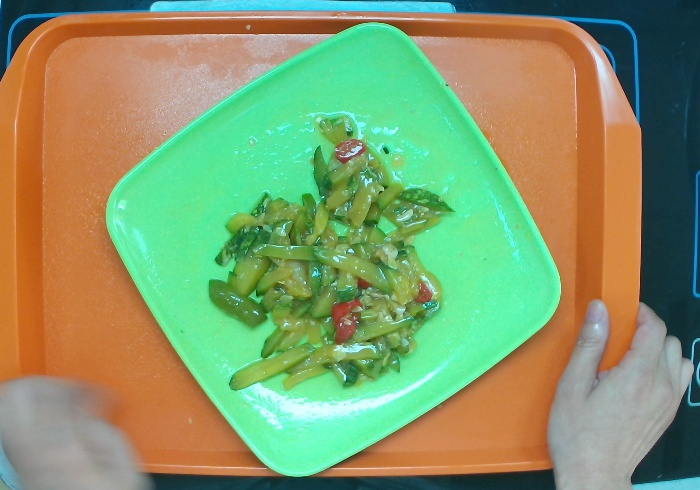ZNLD-Lv_Fang_Pan: (102, 20, 563, 480)
